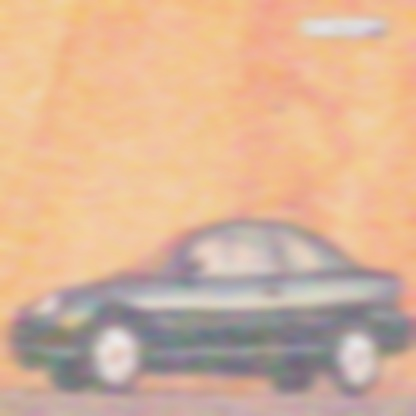Vehicle: (6, 219, 416, 399)
